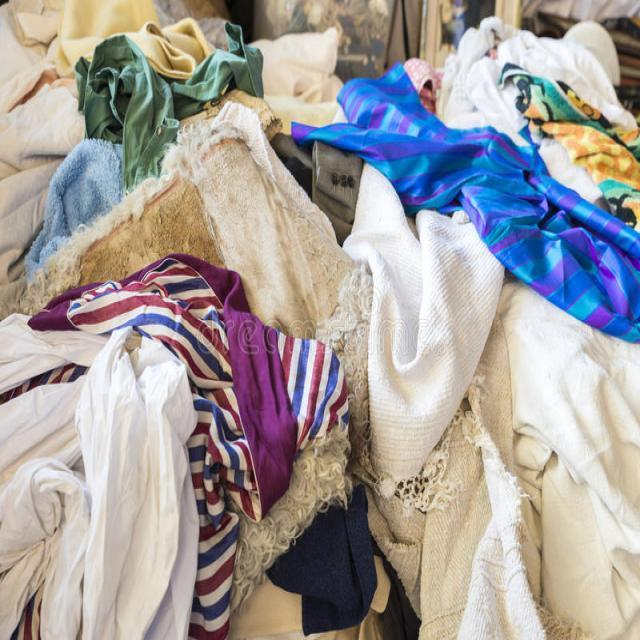clothes: (338, 95, 626, 622), (48, 269, 235, 616)
